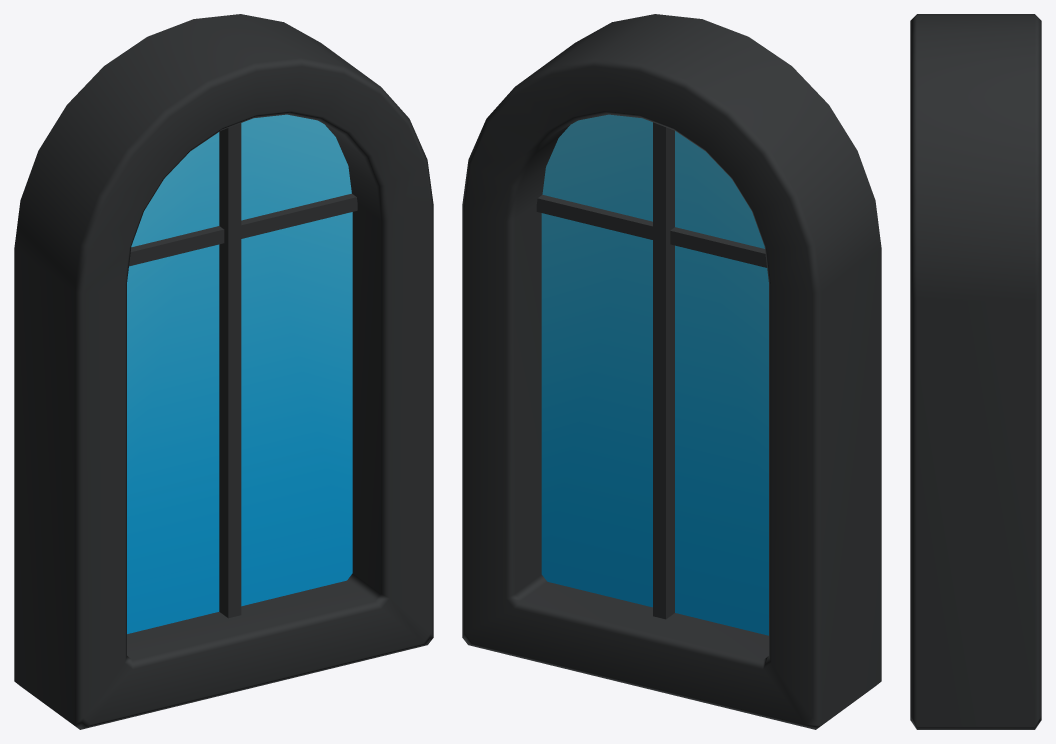
File: Window_Black_16.glb
The picture shows the model from 3 angles, left to right: view 1: azimuth 30°, elevation 25°; view 2: azimuth 150°, elevation 25°; view 3: azimuth 270°, elevation 25°; orthographic projection.
Visible parts, largest first — view 1: Window_Black_16; view 2: Window_Black_16; view 3: Window_Black_16.
Boxes of the visible parts, left/top/right/bottom form: Window_Black_16: left=14, top=14, right=433, bottom=729; Window_Black_16: left=462, top=14, right=881, bottom=729; Window_Black_16: left=910, top=14, right=1041, bottom=729.
Bounding box in the file's own units: 1.24 × 2.07 × 0.4.
Materials: 2 (2 with a texture image).
